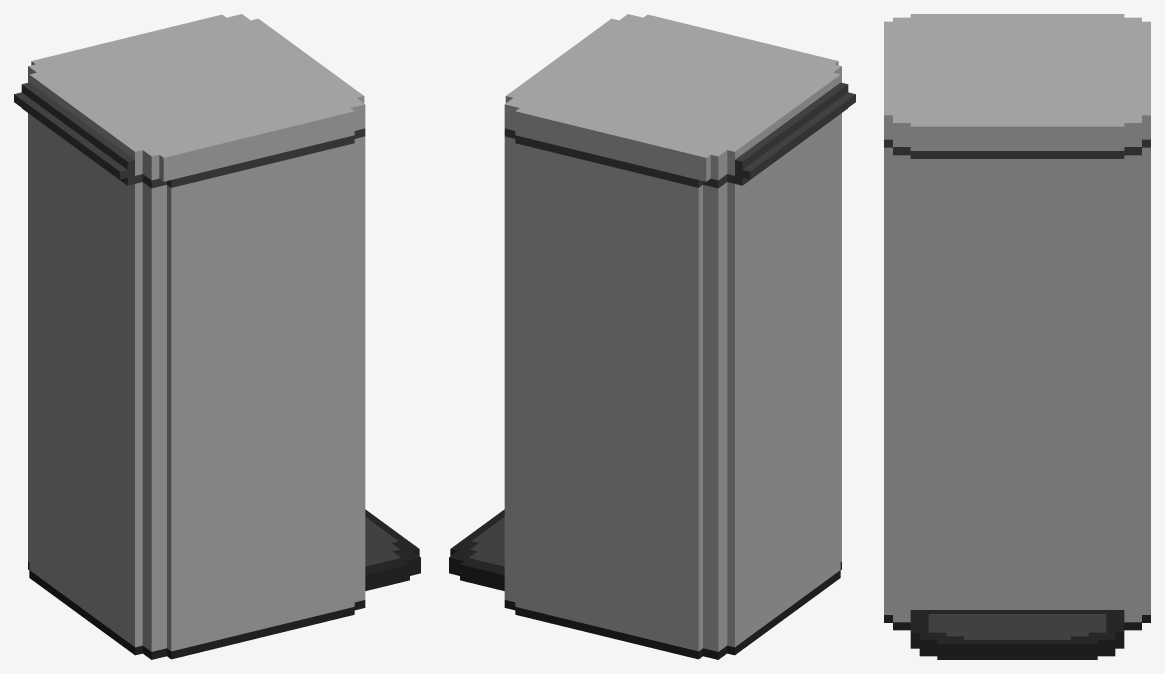
File: TrashCan.fbx
3 views of the same model, side by side, from view 1: azimuth 30°, elevation 25°; view 2: azimuth 150°, elevation 25°; view 3: azimuth 270°, elevation 25° (orthographic).
Visible parts, largest first — view 1: TrashCan, Lid, Hinge, Pedal; view 2: TrashCan, Lid, Hinge, Pedal; view 3: TrashCan, Lid, Pedal.
Part boxes in pixels (x1,y1,x2,y2): TrashCan: [28, 113, 365, 659]; Lid: [28, 14, 365, 181]; Hinge: [14, 82, 134, 185]; Pedal: [365, 509, 420, 590]; TrashCan: [504, 113, 841, 659]; Lid: [504, 14, 841, 181]; Hinge: [735, 82, 855, 185]; Pedal: [449, 509, 504, 590]; TrashCan: [884, 139, 1150, 630]; Lid: [884, 14, 1150, 150]; Pedal: [910, 610, 1124, 659].
Size of the model in its own units: 4.1 by 6.3 by 3.
1 material, 1 textured.
